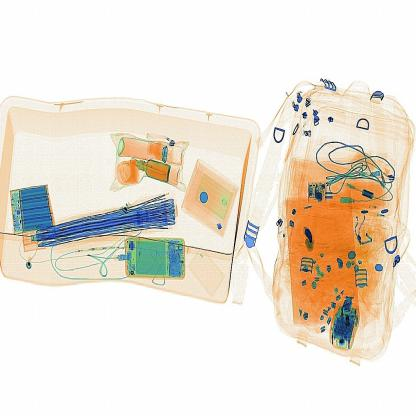wrench: (300, 219, 316, 255)
